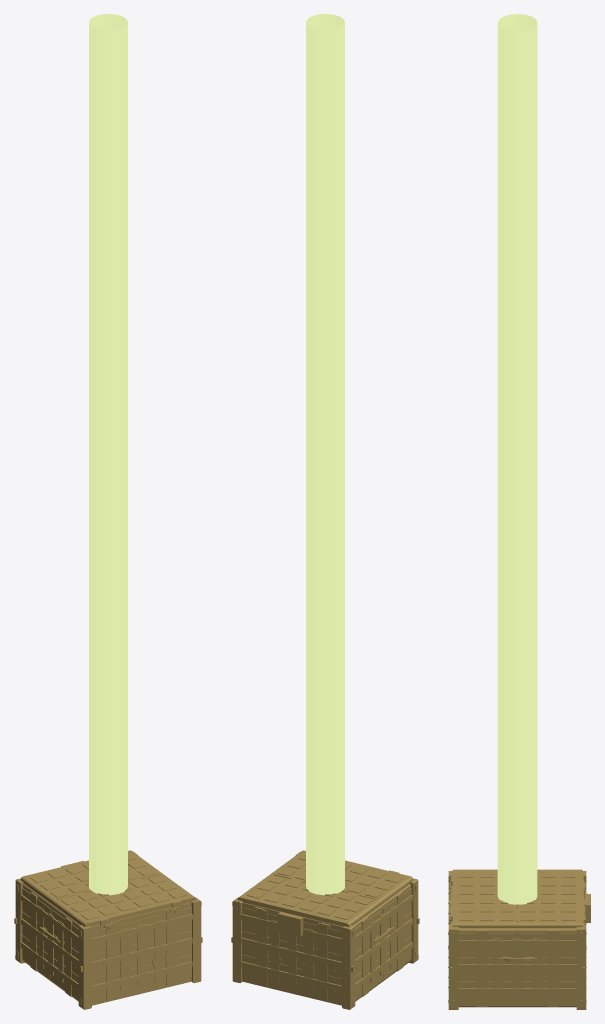
File: care_pickup.glb
The picture shows the model from 3 angles, left to right: view 1: azimuth 30°, elevation 25°; view 2: azimuth 150°, elevation 25°; view 3: azimuth 270°, elevation 25°; orthographic projection.
Visible parts, largest first — view 1: care_pickup__beam, care_pickup__care_pickup; view 2: care_pickup__beam, care_pickup__care_pickup; view 3: care_pickup__beam, care_pickup__care_pickup.
Boxes of the visible parts, x1,y1,x2,y2 form: care_pickup__beam: [89, 14, 127, 895]; care_pickup__care_pickup: [14, 850, 202, 1009]; care_pickup__beam: [306, 14, 344, 895]; care_pickup__care_pickup: [231, 850, 419, 1009]; care_pickup__beam: [497, 14, 537, 904]; care_pickup__care_pickup: [448, 869, 590, 1009].
Size of the model in its own units: 1.29 by 9.61 by 1.3.
